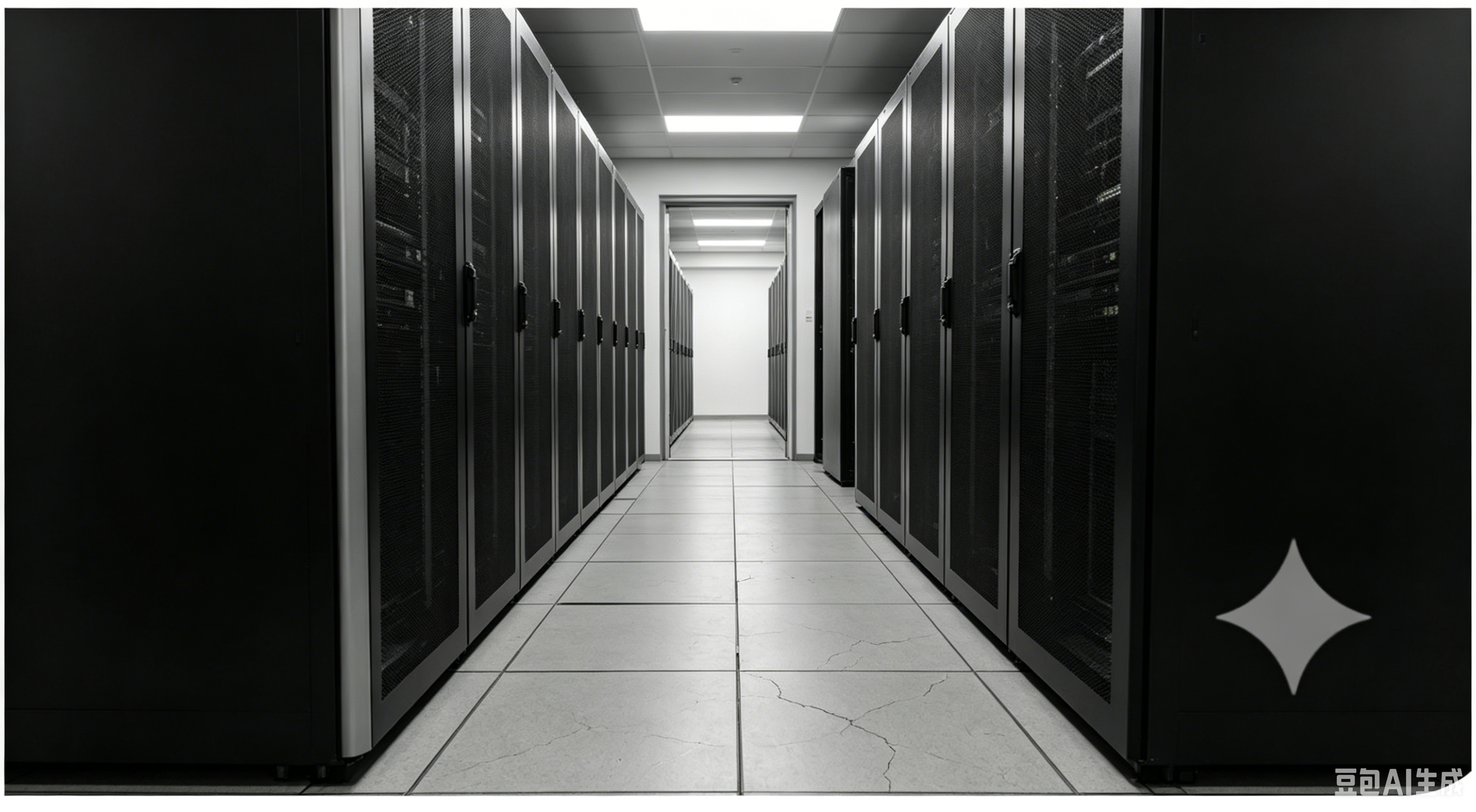floor_defect: (447, 731, 596, 768), (843, 716, 896, 791), (758, 680, 852, 722), (867, 681, 946, 715), (802, 644, 871, 674), (852, 630, 943, 650)
